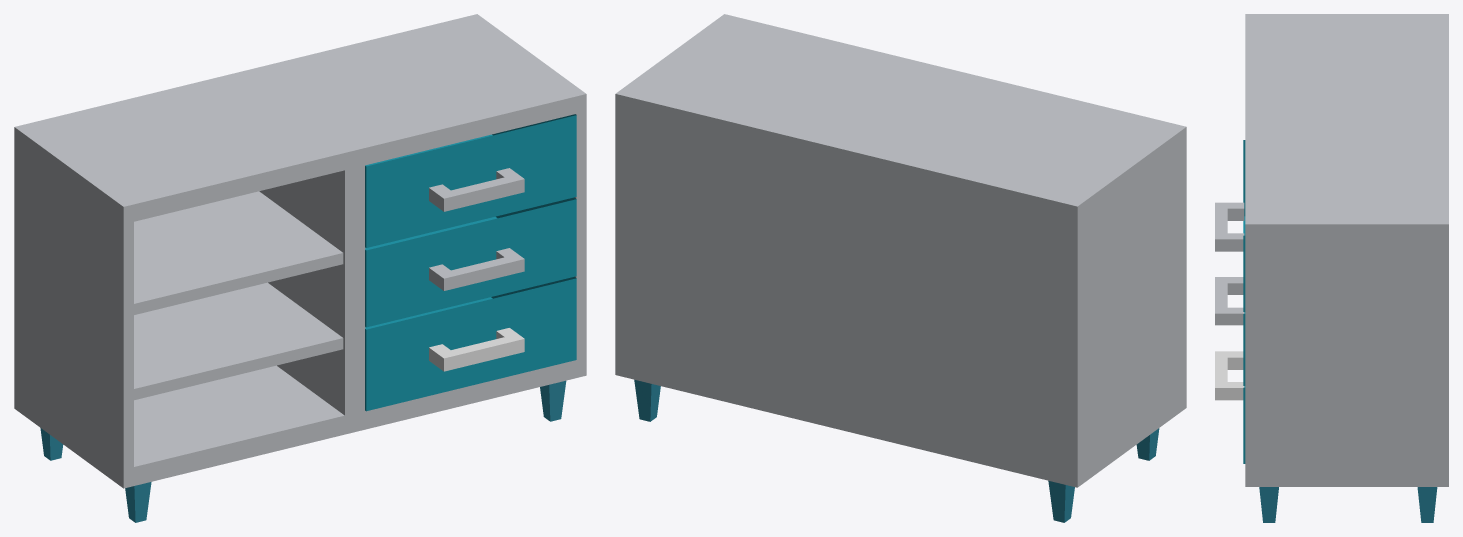
File: kabinetBawahLabFix2.fbx
3 renders of one model, left to right at view 1: azimuth 30°, elevation 25°; view 2: azimuth 150°, elevation 25°; view 3: azimuth 270°, elevation 25°, orthographic. The views are drawn at different scales.
Visible parts, largest first — view 1: Cube.001; view 2: Cube.001; view 3: Cube.001.
Boxes of the visible parts, box(x1,y1,x2,y2) form: Cube.001: box(14, 14, 586, 522); Cube.001: box(615, 14, 1186, 522); Cube.001: box(1215, 14, 1448, 522).
Size of the model in its own units: 183 by 124 by 85.89.
